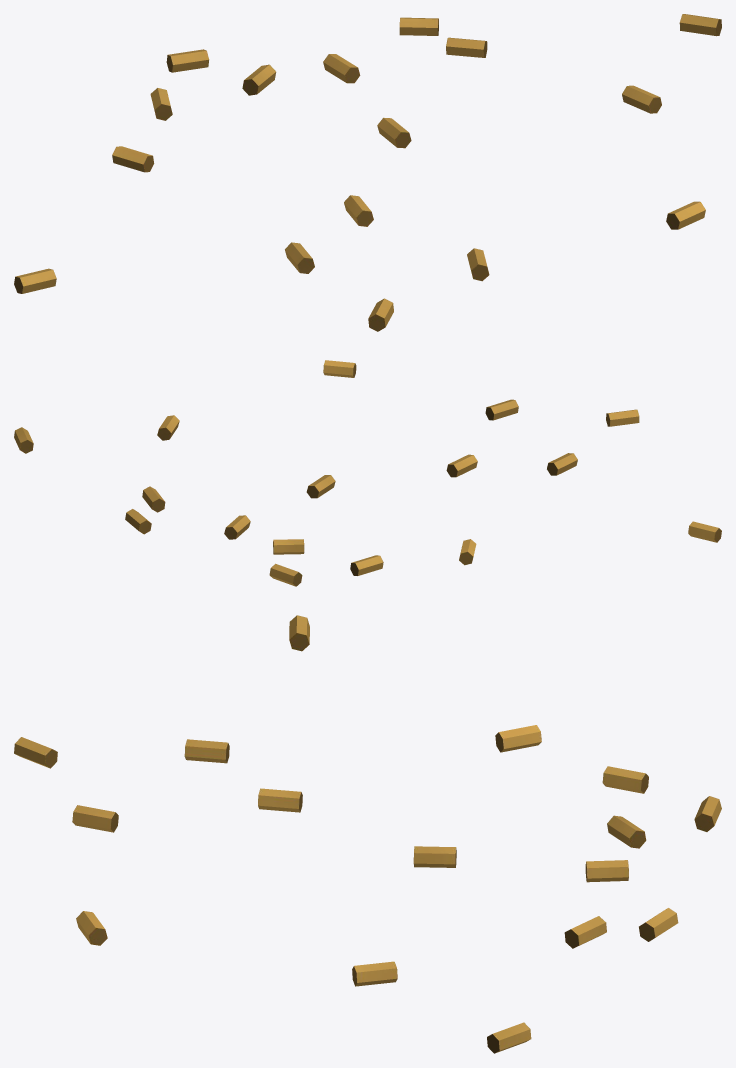
File: shell_casings_idle.glb
3 renders of one model, top to bottom at view 1: azimuth 30°, elevation 25°; view 2: azimuth 150°, elevation 25°; view 3: azimuth 270°, elevation 25°, orthographic. The views are drawn at different scales.
Visible parts, largest first — view 1: shell_casings; view 2: shell_casings; view 3: shell_casings.
Boxes of the visible parts, x1,y1,x2,y2 form: shell_casings: [14, 14, 721, 331]; shell_casings: [14, 360, 721, 586]; shell_casings: [14, 615, 721, 1053].
Bounding box in the file's own units: 0.4532 × 0.00954 × 0.3209.
1 material, 1 textured.
